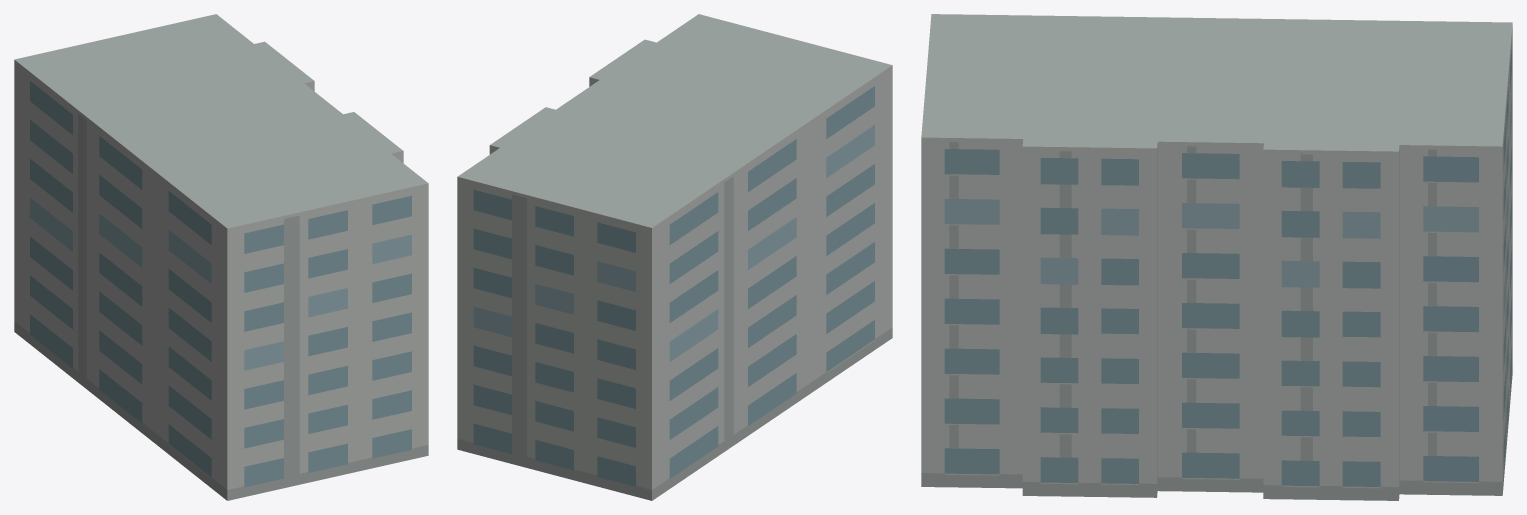
The model's file is survey-upis-32832604.glb.
3 views of the same model, side by side, from view 1: azimuth 30°, elevation 25°; view 2: azimuth 150°, elevation 25°; view 3: azimuth 270°, elevation 25° (orthographic). The views are drawn at different scales.
Parts seen in each view (by area): view 1: survey-upis-32832604.tmp; view 2: survey-upis-32832604.tmp; view 3: survey-upis-32832604.tmp.
Boxes of the visible parts, x1,y1,x2,y2 form: survey-upis-32832604.tmp: (14,14,428,500); survey-upis-32832604.tmp: (457,14,892,500); survey-upis-32832604.tmp: (921,14,1512,500).
Bounding box in the file's own units: 17.15 × 20.3 × 31.15.
